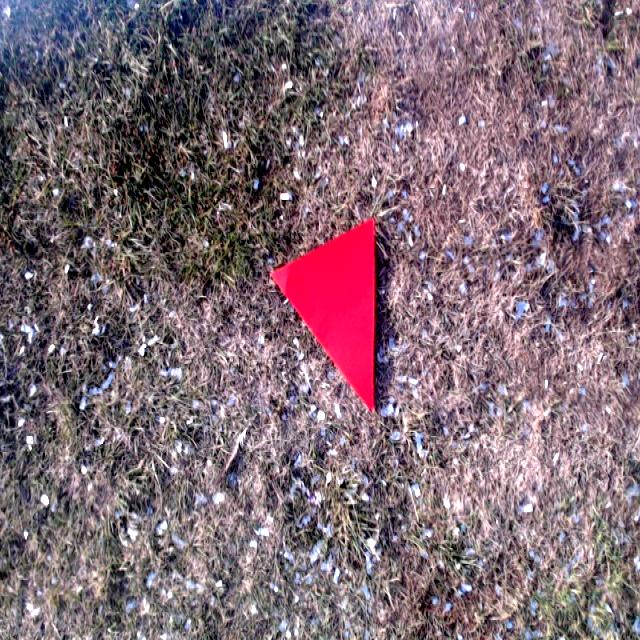red_triangle: (266, 218, 374, 410)
